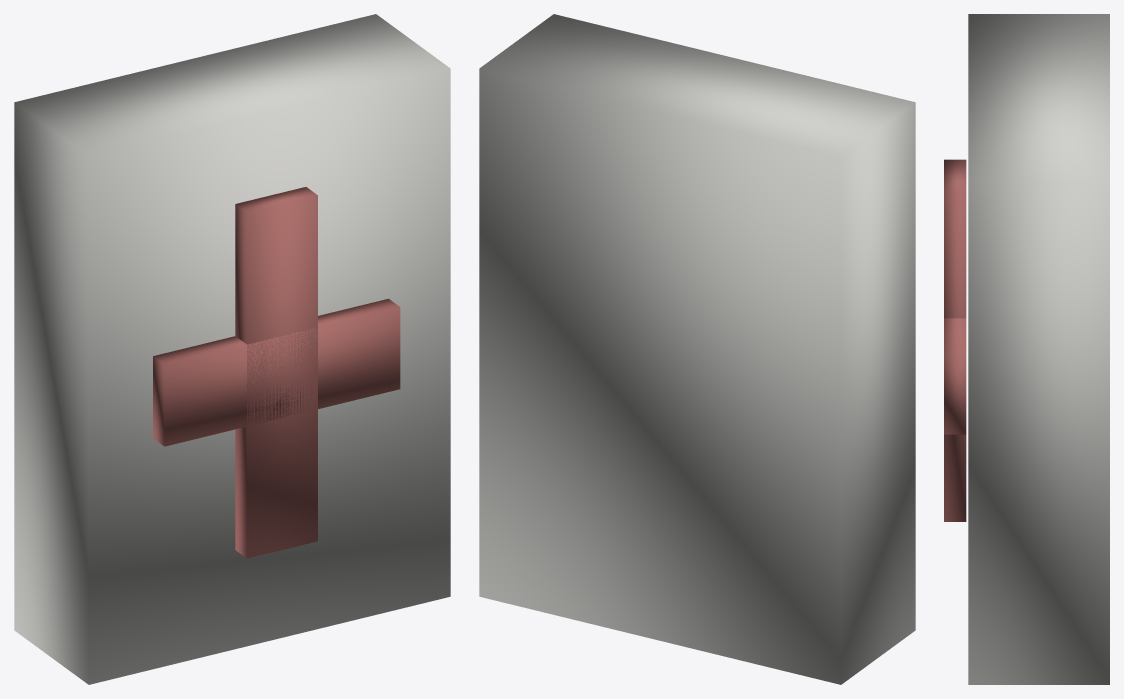
Rendered from first_aid_wall_cabinet__compact.glb.
The picture shows the model from 3 angles, left to right: view 1: azimuth 30°, elevation 25°; view 2: azimuth 150°, elevation 25°; view 3: azimuth 270°, elevation 25°; orthographic projection. The views are drawn at different scales.
Visible parts, largest first — view 1: world; view 2: world; view 3: world.
Boxes of the visible parts, x1,y1,x2,y2 form: world: (14, 14, 450, 684); world: (479, 14, 915, 684); world: (944, 14, 1109, 684).
Bounding box in the file's own units: 0.3864 × 0.5394 × 0.1612.
